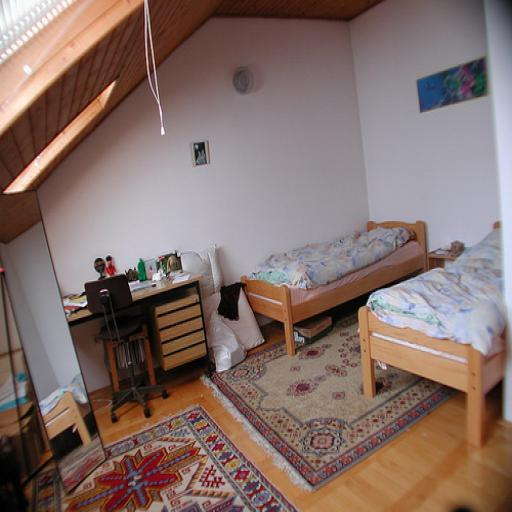bed: (347, 206, 512, 466)
